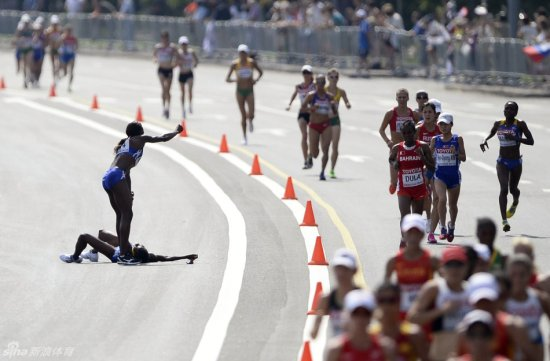10+: (1, 1, 550, 361)
down: (54, 223, 199, 273)
